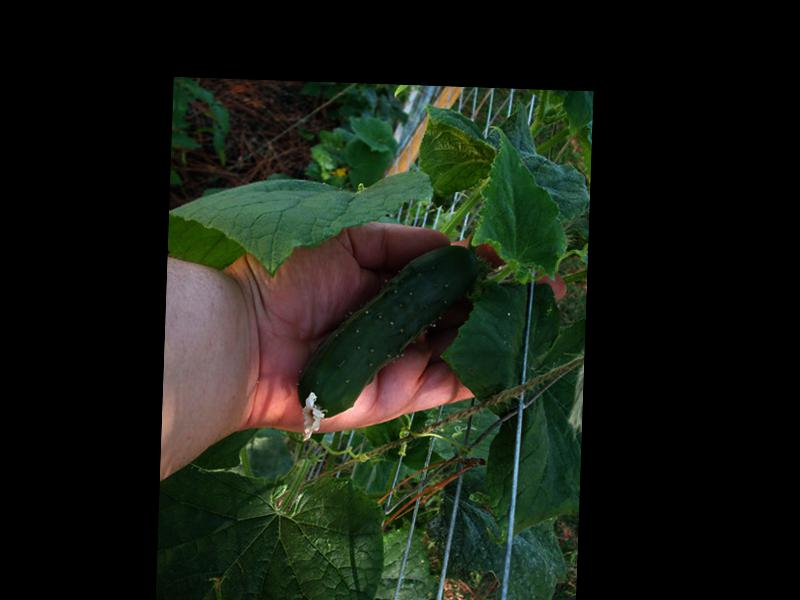Cucumber: (296, 241, 479, 448)
